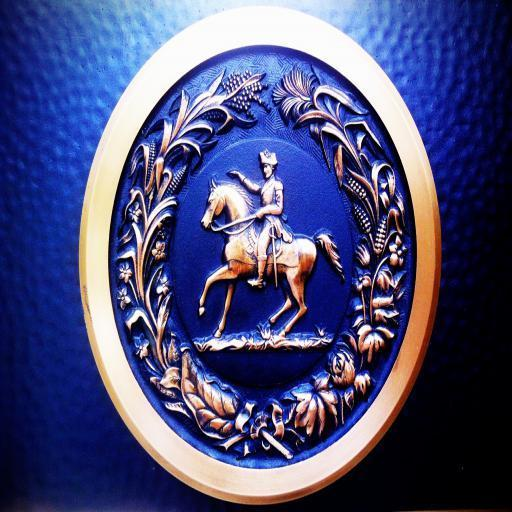horse: (198, 178, 345, 344)
